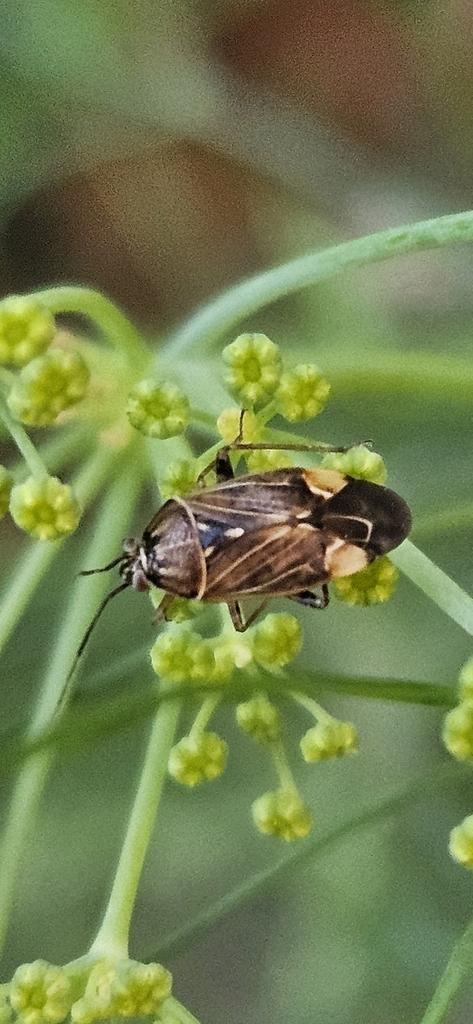plant_bugs: (6, 354, 473, 756)
